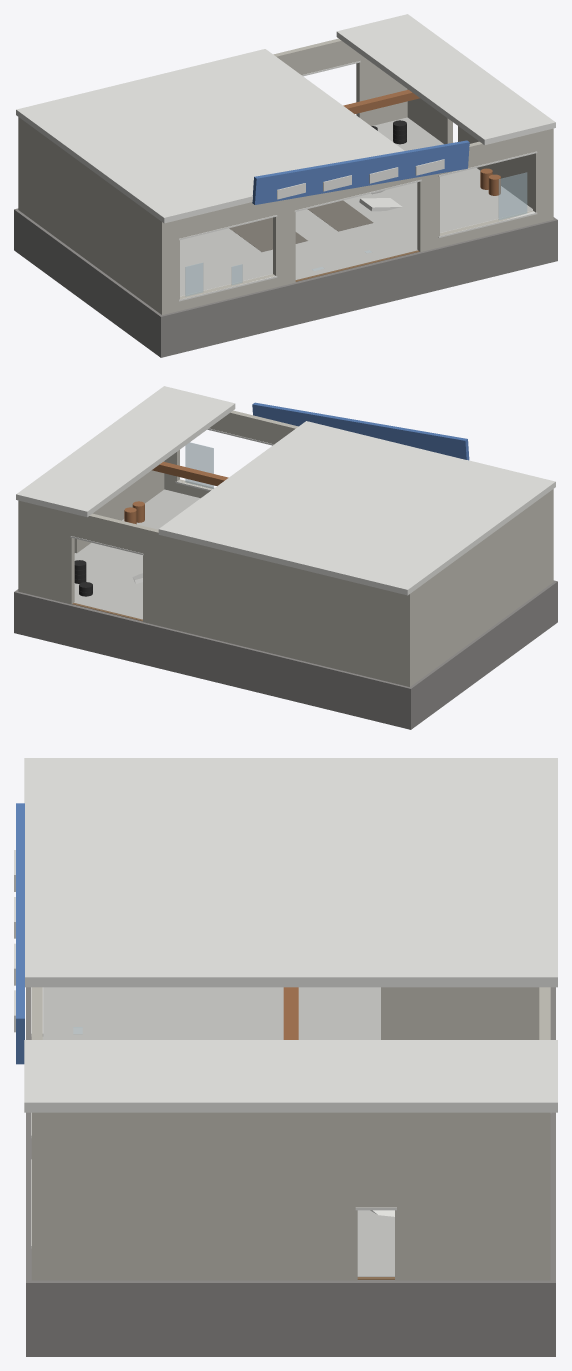
Rendered from bld_dealership.glb.
3 views of the same model, one above another, from view 1: azimuth 30°, elevation 25°; view 2: azimuth 150°, elevation 25°; view 3: azimuth 270°, elevation 25° (orthographic). The views are drawn at different scales.
Parts seen in each view (by area): view 1: Dealership; view 2: Dealership; view 3: Dealership.
Boxes of the visible parts, x1,y1,x2,y2 form: Dealership: (14, 14, 557, 357); Dealership: (14, 386, 557, 729); Dealership: (14, 758, 557, 1356).
Size of what is drawn, in the model's own units: 22.3 by 8.52 by 14.67.
